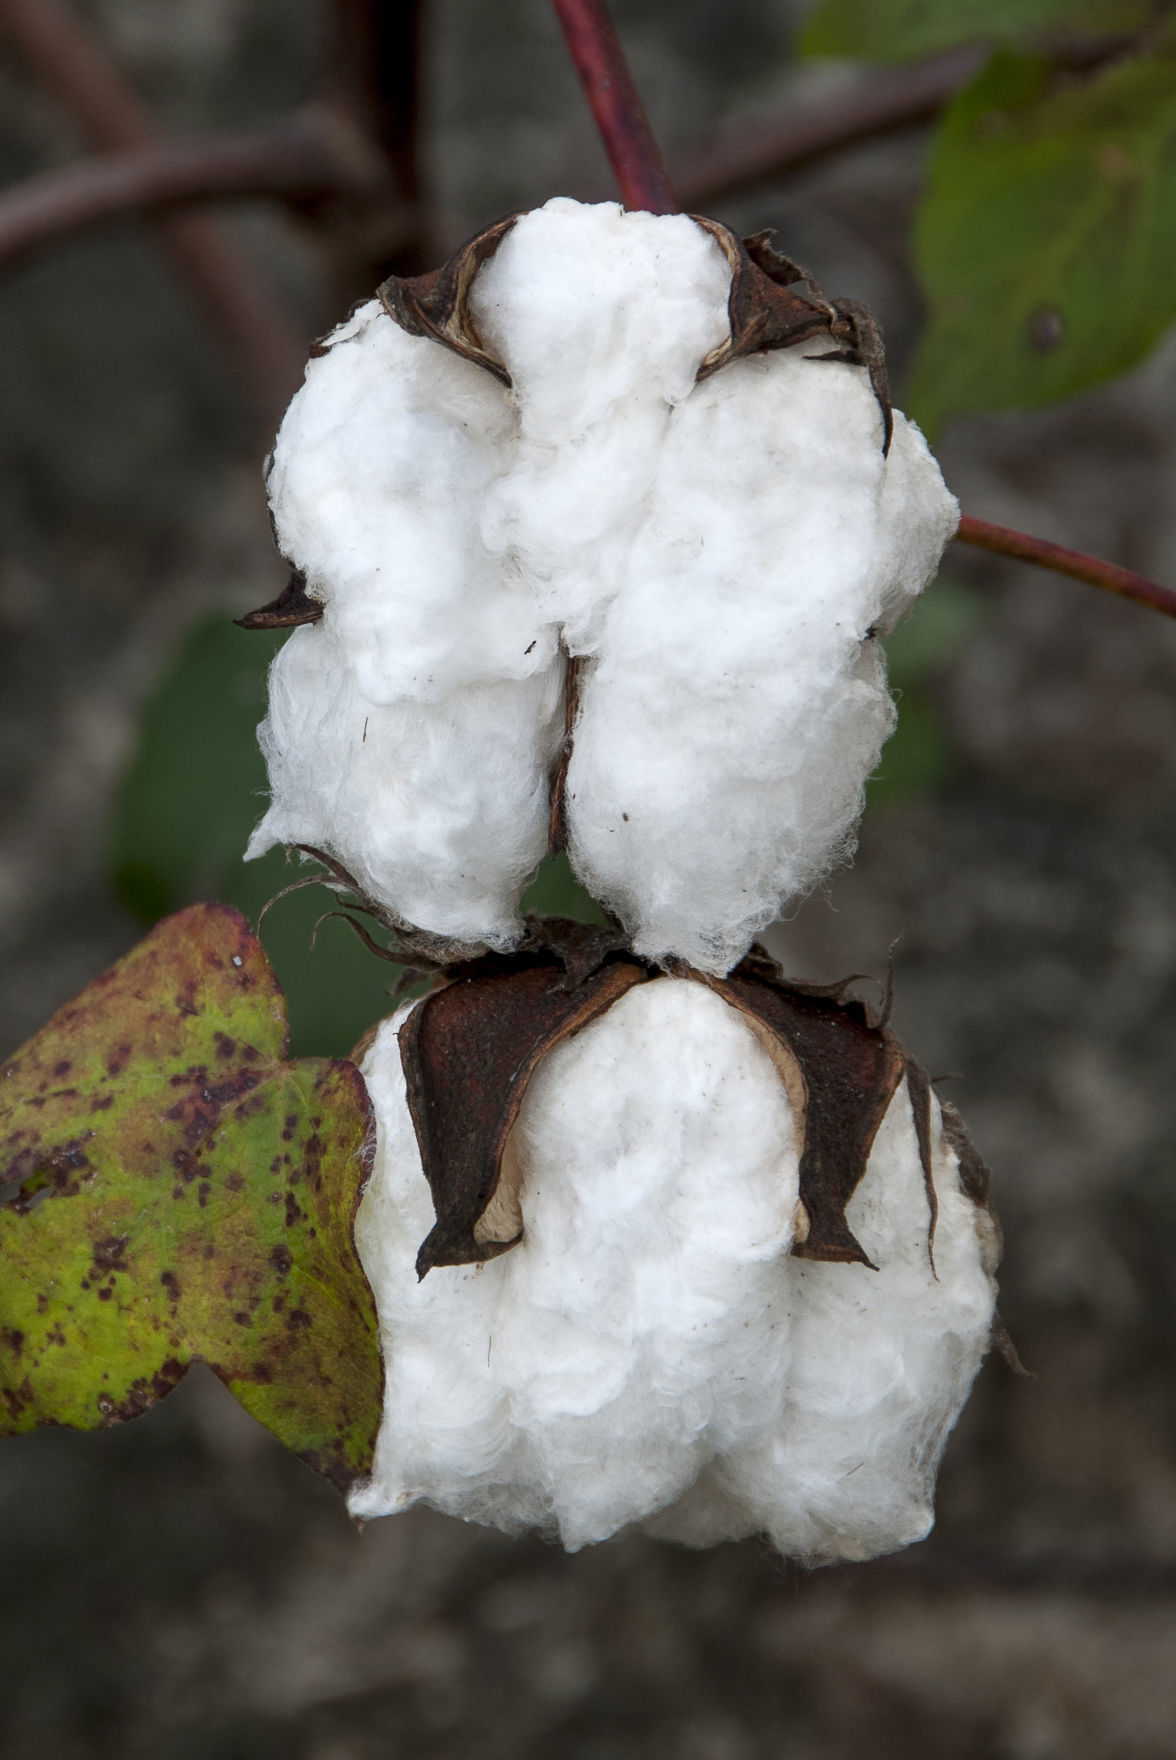cotton: (30, 34, 1123, 1660)
